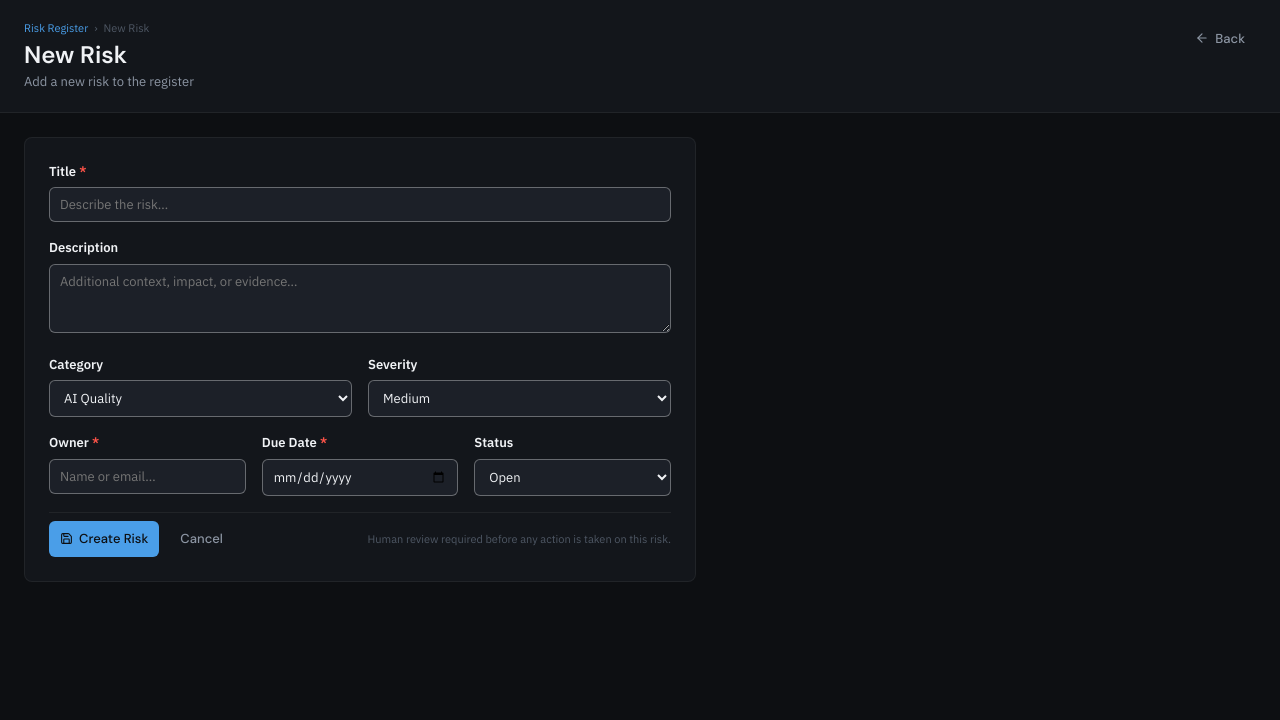
Test: RiskForm — onBlur field validation (STORY-RISKFORM-001) › AC-3: submit still validates all required fields at once
What coordinates should you click on to do the following:
click the button "Create Risk"
I would click on:
 (104, 539)
Its box is [49,521,159,557].
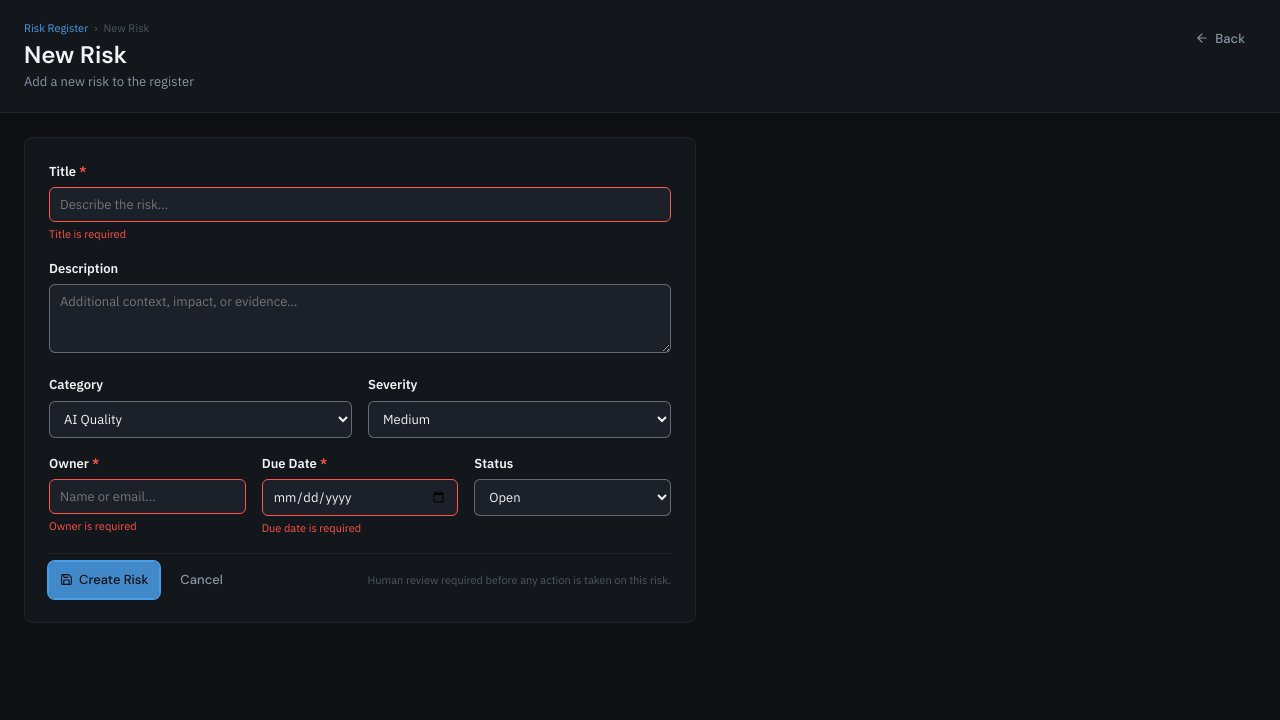
Now the text "Title is required" is shown, box [49,227,126,241]
Now the text "Owner is required" is shown, box [49,519,137,533]
Now the text "Due date is required" is shown, box [262,521,361,535]
